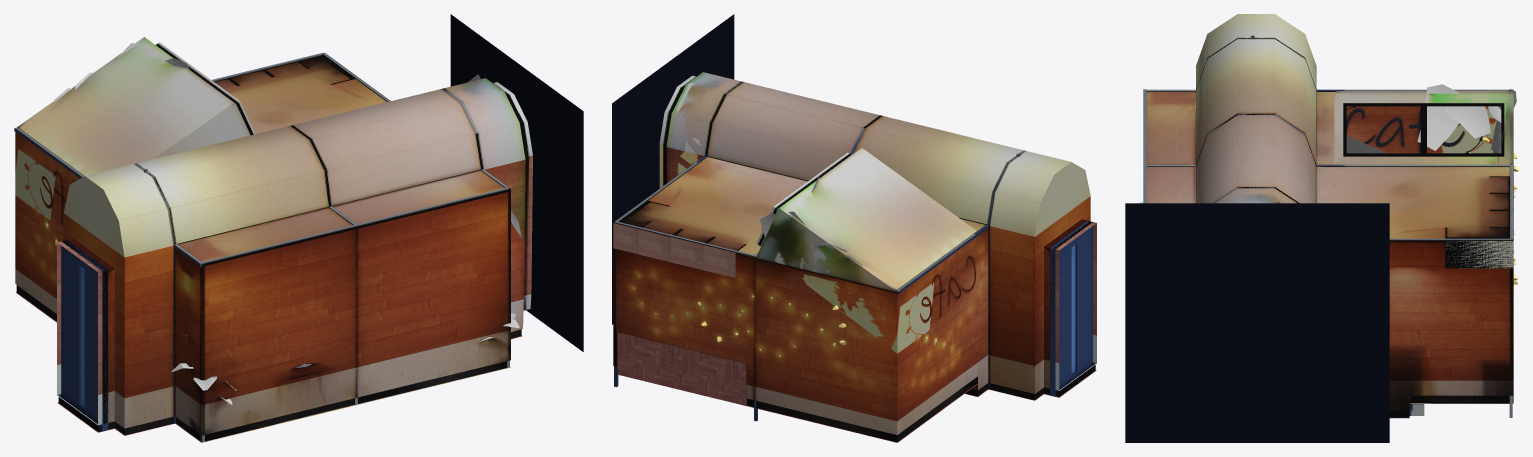
Rendered from hsjsjs.fbx.
3 views of the same model, side by side, from view 1: azimuth 30°, elevation 25°; view 2: azimuth 150°, elevation 25°; view 3: azimuth 270°, elevation 25° (orthographic). The views are drawn at different scales.
Parts seen in each view (by area): view 1: Building_002_14_31, Background_12_27, NoBakeStatic_15_33; view 2: Building_002_14_31, Background_12_27, NoBakeStatic_15_33; view 3: Building_002_14_31, Background_12_27, NoBakeStatic_15_33, chara_0_3.
Part boxes in pixels (bbox=[...]): Building_002_14_31: bbox=[14, 37, 532, 442]; Background_12_27: bbox=[450, 14, 583, 351]; NoBakeStatic_15_33: bbox=[46, 43, 521, 404]; Building_002_14_31: bbox=[613, 72, 1096, 442]; Background_12_27: bbox=[612, 14, 734, 324]; NoBakeStatic_15_33: bbox=[634, 83, 945, 356]; Building_002_14_31: bbox=[1143, 14, 1513, 418]; Background_12_27: bbox=[1125, 203, 1389, 442]; NoBakeStatic_15_33: bbox=[1139, 84, 1518, 304]; chara_0_3: bbox=[1346, 135, 1386, 153].
Size of the model in its own units: 557 by 300 by 434.
